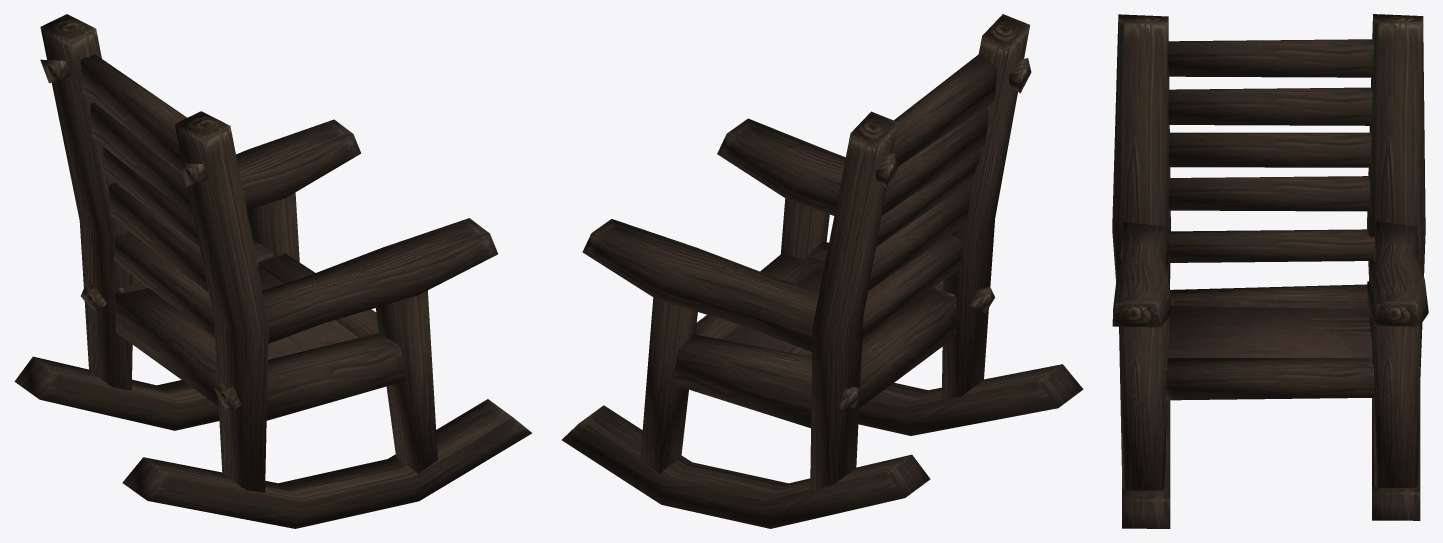
The picture shows the model from 3 angles, left to right: view 1: azimuth 30°, elevation 25°; view 2: azimuth 150°, elevation 25°; view 3: azimuth 270°, elevation 25°; orthographic projection. The views are drawn at different scales.
Size of the model in its own units: 1.34 by 1.41 by 0.998.
Materials: 2 (2 with a texture image).
